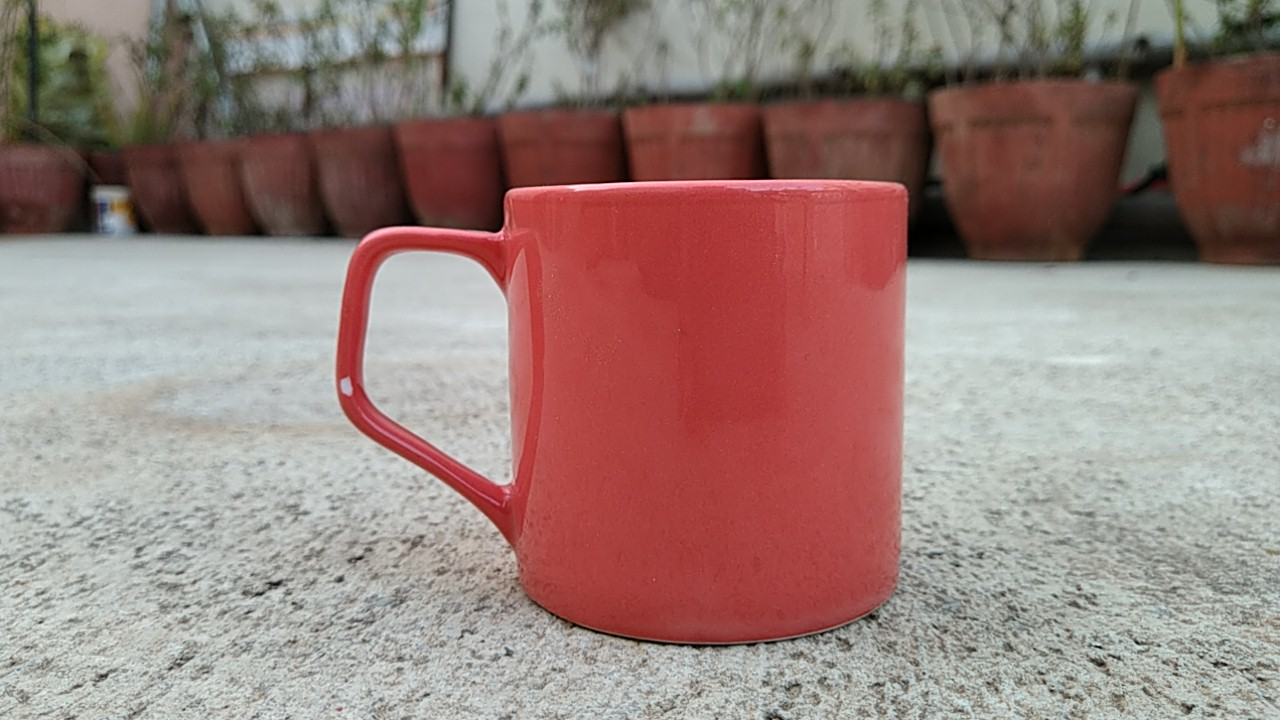cup: (325, 168, 939, 653)
